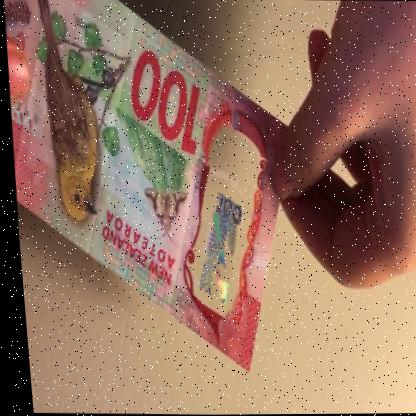100B: (182, 186, 247, 309)
